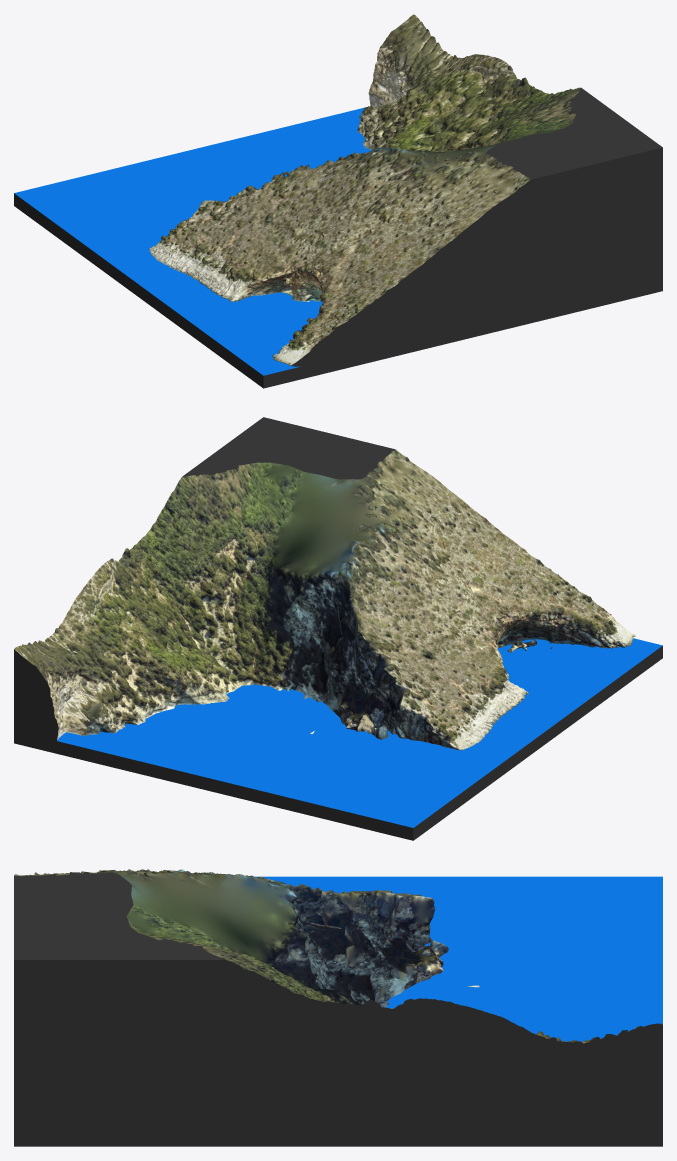
Rendered from IonianCliff.fbx.
The picture shows the model from 3 angles, top to bottom: view 1: azimuth 30°, elevation 25°; view 2: azimuth 150°, elevation 25°; view 3: azimuth 270°, elevation 25°; orthographic projection. The views are drawn at different scales.
Parts seen in each view (by area): view 1: CliffA_Model_2; view 2: CliffA_Model_2; view 3: CliffA_Model_2.
Boxes of the visible parts, <box> form: CliffA_Model_2: <box>14,14,662,388</box>; CliffA_Model_2: <box>14,417,662,840</box>; CliffA_Model_2: <box>14,869,662,1146</box>.
Bounding box in the file's own units: 19.33 × 6.64 × 20.92.
